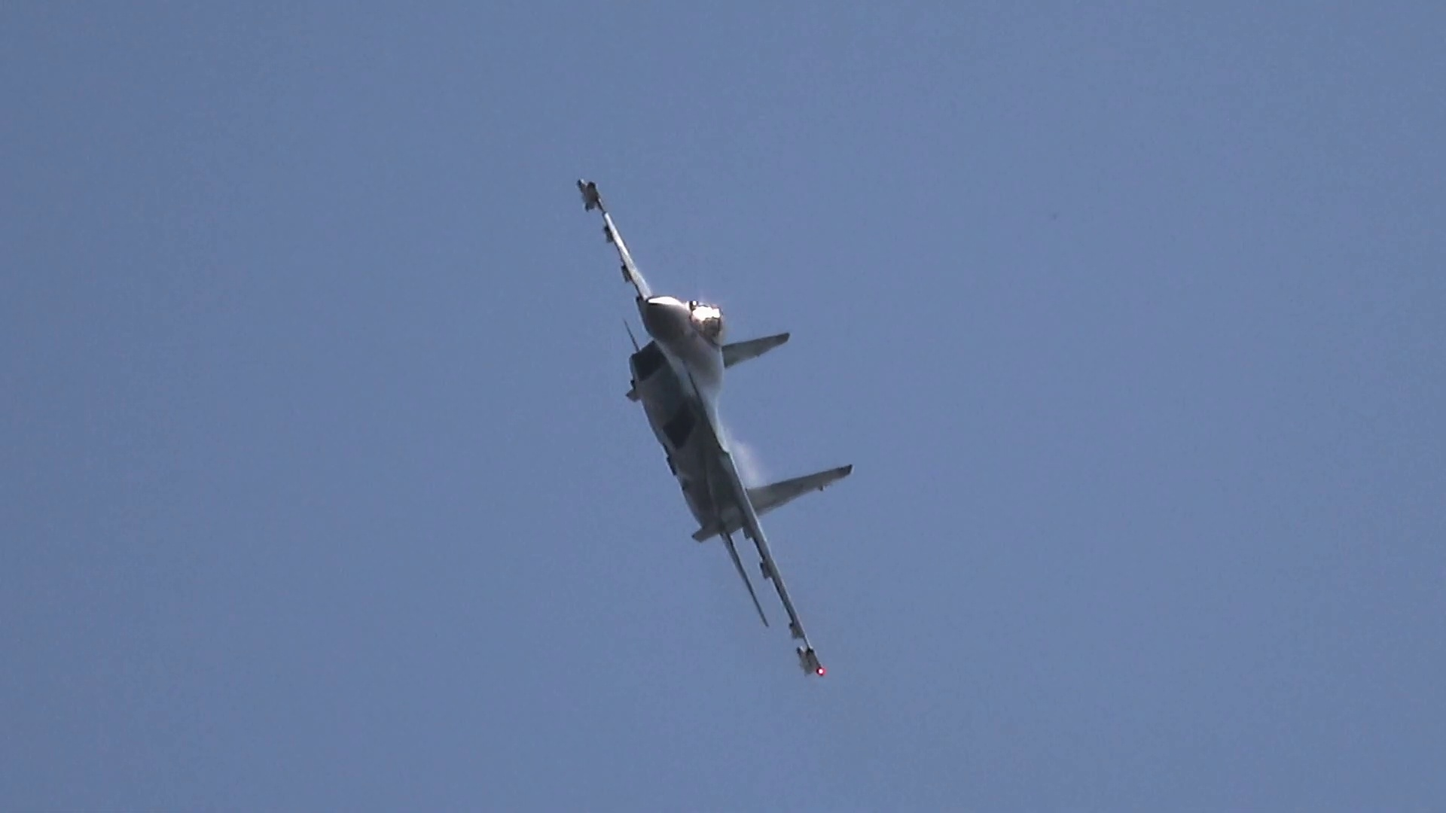Su35: (576, 179, 853, 676)
